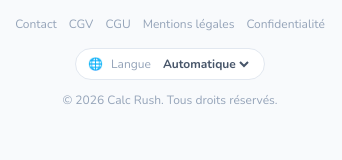
it: Footer › language picker › switches the language
This screenshot has width=342, height=160.
Select "English" in the dropdown labelled "Langue" at (205,64), box left=159, top=55, right=252, bottom=73
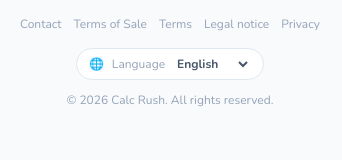
Expected: the link "Terms of Sale" is shown, left=74, top=16, right=147, bottom=32
